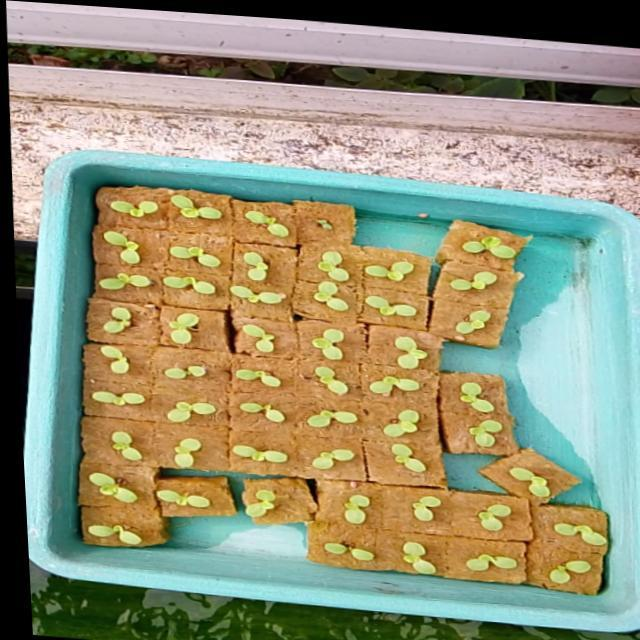Baby: (478, 449, 536, 493), (72, 425, 136, 462), (521, 549, 586, 582), (514, 515, 568, 548), (349, 364, 399, 395), (361, 402, 416, 430), (337, 283, 392, 310), (208, 313, 253, 345), (58, 291, 100, 325), (128, 349, 191, 371), (136, 181, 189, 207), (438, 226, 493, 250), (213, 198, 259, 226), (68, 219, 105, 253), (449, 412, 486, 446), (447, 545, 508, 565), (61, 260, 121, 280), (212, 394, 263, 417), (369, 328, 403, 362), (286, 271, 321, 303), (199, 275, 257, 294), (136, 302, 169, 335), (383, 535, 416, 568), (370, 436, 405, 467), (285, 320, 317, 353), (290, 358, 325, 388), (140, 395, 190, 416), (290, 242, 322, 273), (130, 266, 185, 284), (425, 262, 473, 282), (284, 402, 334, 421), (456, 496, 489, 524), (340, 249, 388, 268), (70, 337, 101, 366), (432, 301, 467, 326), (210, 361, 256, 380), (75, 188, 125, 205), (147, 432, 176, 461), (438, 373, 473, 397), (62, 385, 117, 400), (212, 240, 239, 270), (322, 489, 349, 518), (392, 490, 420, 515), (138, 235, 179, 251), (292, 442, 323, 463)
